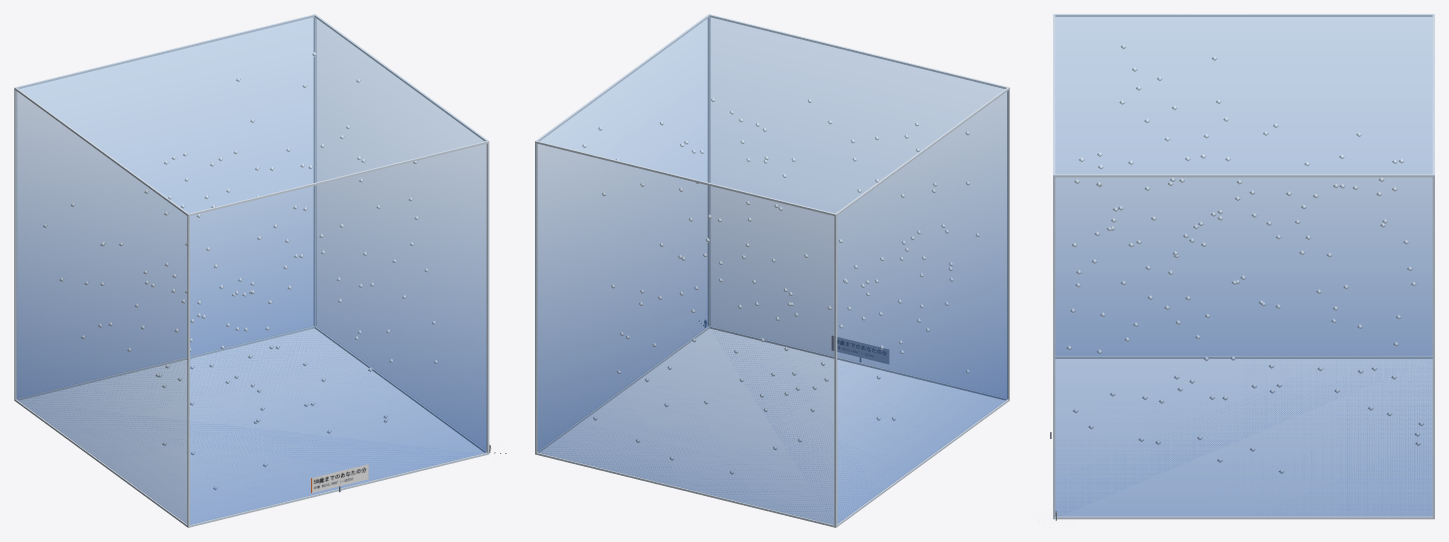
The model's file is cube_life_50.glb.
3 views of the same model, side by side, from view 1: azimuth 30°, elevation 25°; view 2: azimuth 150°, elevation 25°; view 3: azimuth 270°, elevation 25° (orthographic). The views are drawn at different scales.
Visible parts, largest first — view 1: co2, edge, dots, label; view 2: co2, edge, dots, label; view 3: co2, edge, dots.
Boxes of the visible parts, <box> form: co2: <box>16,15,486,524</box>; edge: <box>14,14,489,527</box>; dots: <box>43,52,437,490</box>; label: <box>311,464,368,493</box>; co2: <box>537,15,1007,524</box>; edge: <box>535,14,1009,527</box>; dots: <box>582,98,979,474</box>; label: <box>832,336,888,363</box>; co2: <box>1055,14,1433,516</box>; edge: <box>1053,14,1434,519</box>; dots: <box>1066,44,1423,473</box>.
Bounding box in the file's own units: 66.2 × 62.44 × 65.3.
Materials: 8 (3 with a texture image).
